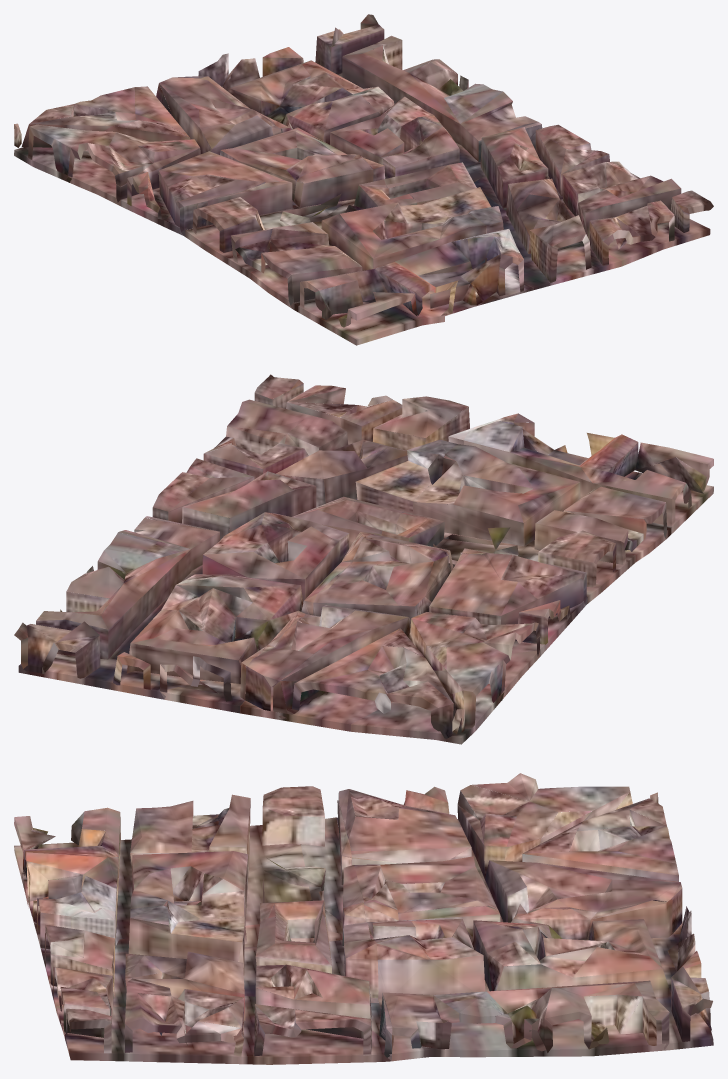
3 views of the same model, one above another, from view 1: azimuth 30°, elevation 25°; view 2: azimuth 150°, elevation 25°; view 3: azimuth 270°, elevation 25° (orthographic). The views are drawn at different scales.
Parts seen in each view (by area): view 1: Mesh_0; view 2: Mesh_0; view 3: Mesh_0.
Part boxes in pixels (x1,y1,x2,y2): Mesh_0: [14, 14, 713, 345]; Mesh_0: [14, 374, 713, 744]; Mesh_0: [14, 773, 713, 1064].
Size of the model in its own units: 269 by 39.66 by 330.
Materials: 2 (2 with a texture image).
